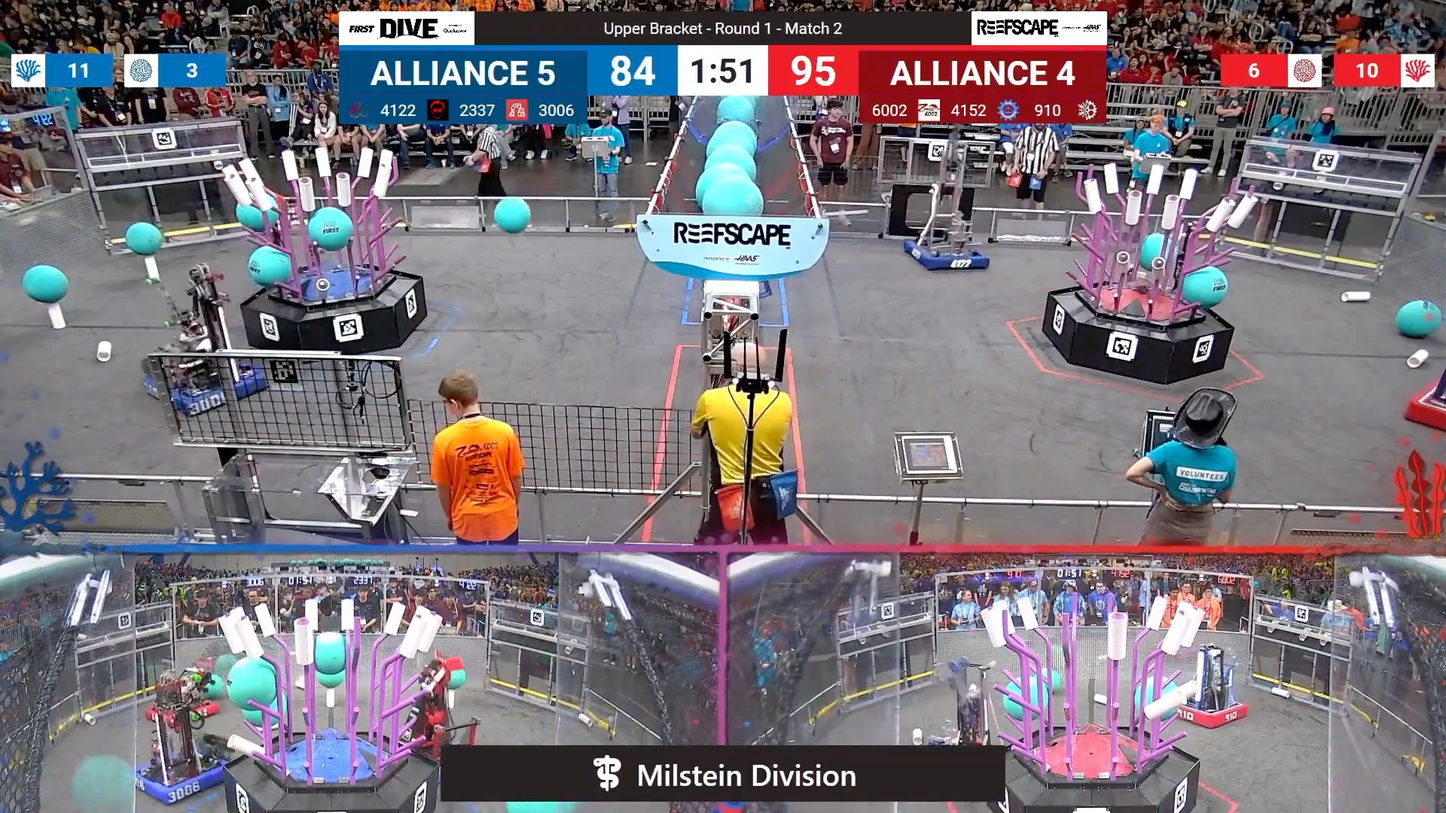bumpers: (138, 358, 274, 417), (125, 752, 239, 809), (895, 238, 995, 275), (1167, 692, 1255, 730), (1404, 370, 1445, 443), (139, 694, 222, 726)
